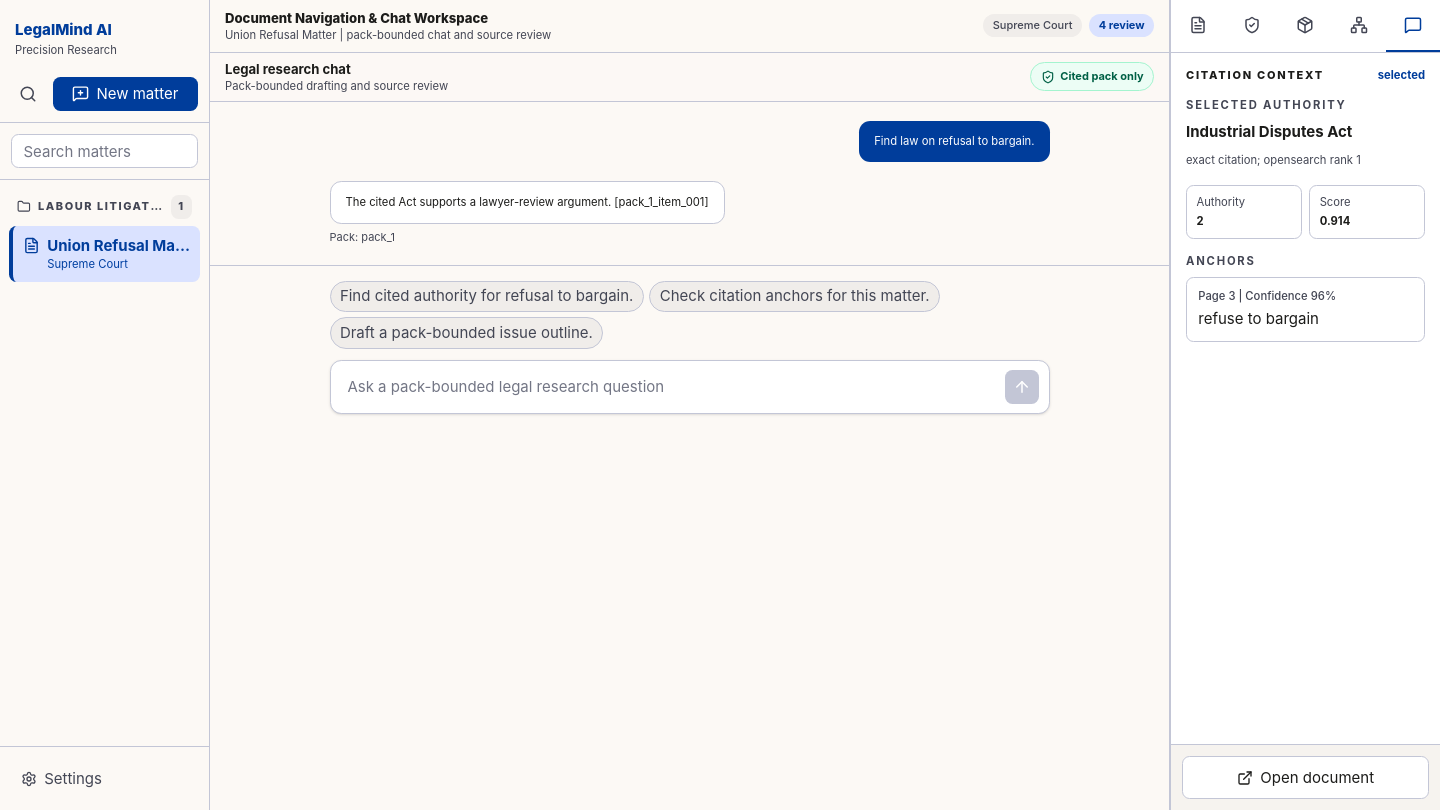
Test: CaseWorkspace › uses the right navigation to switch active workspace views
Click the button named "Pack": coordinates (1306, 26) [1279, 0, 1332, 52]
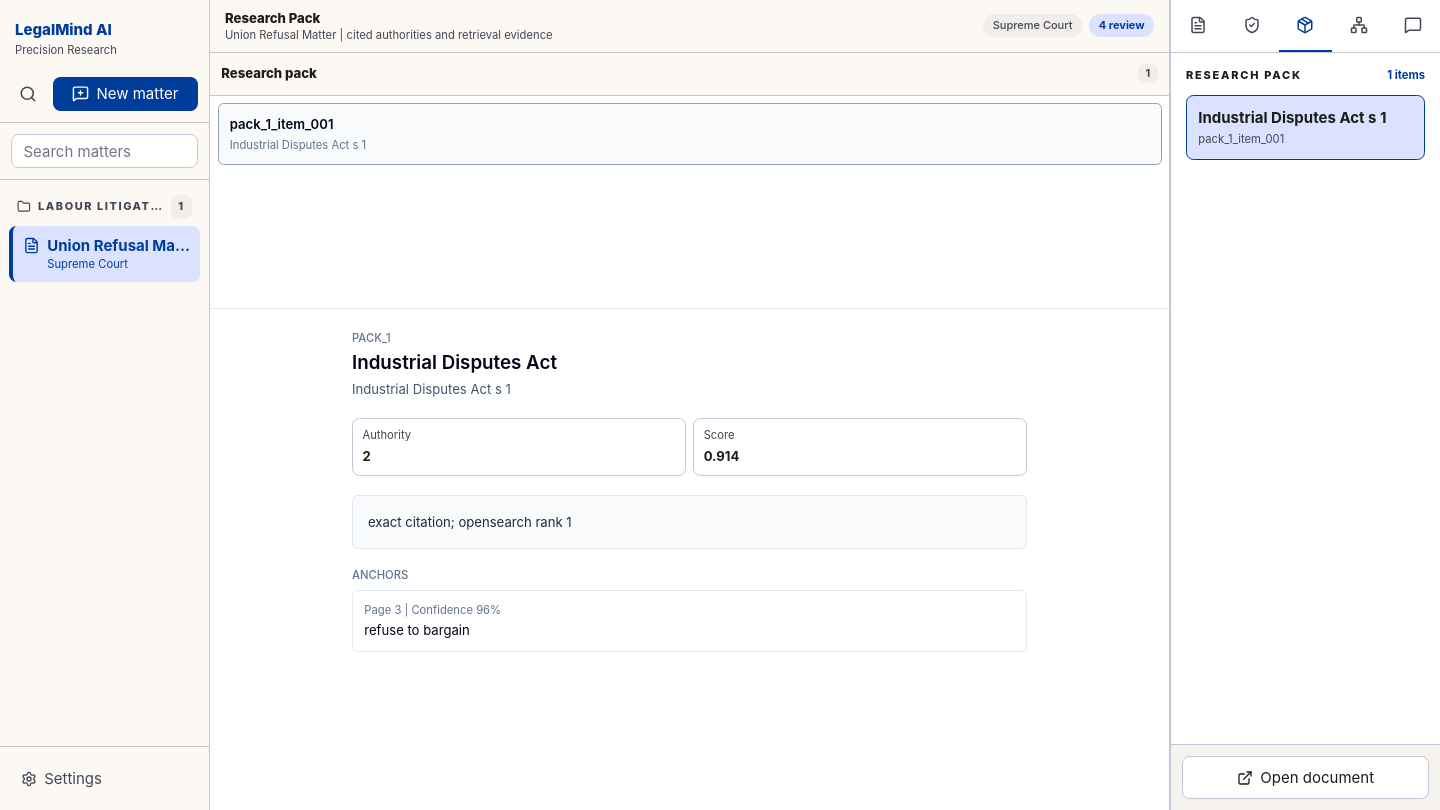
Expected: the element named "Research pack detail" is shown, [210, 309, 1169, 809]
Click the button named "Reviews": coordinates (1252, 26) [1225, 0, 1279, 52]
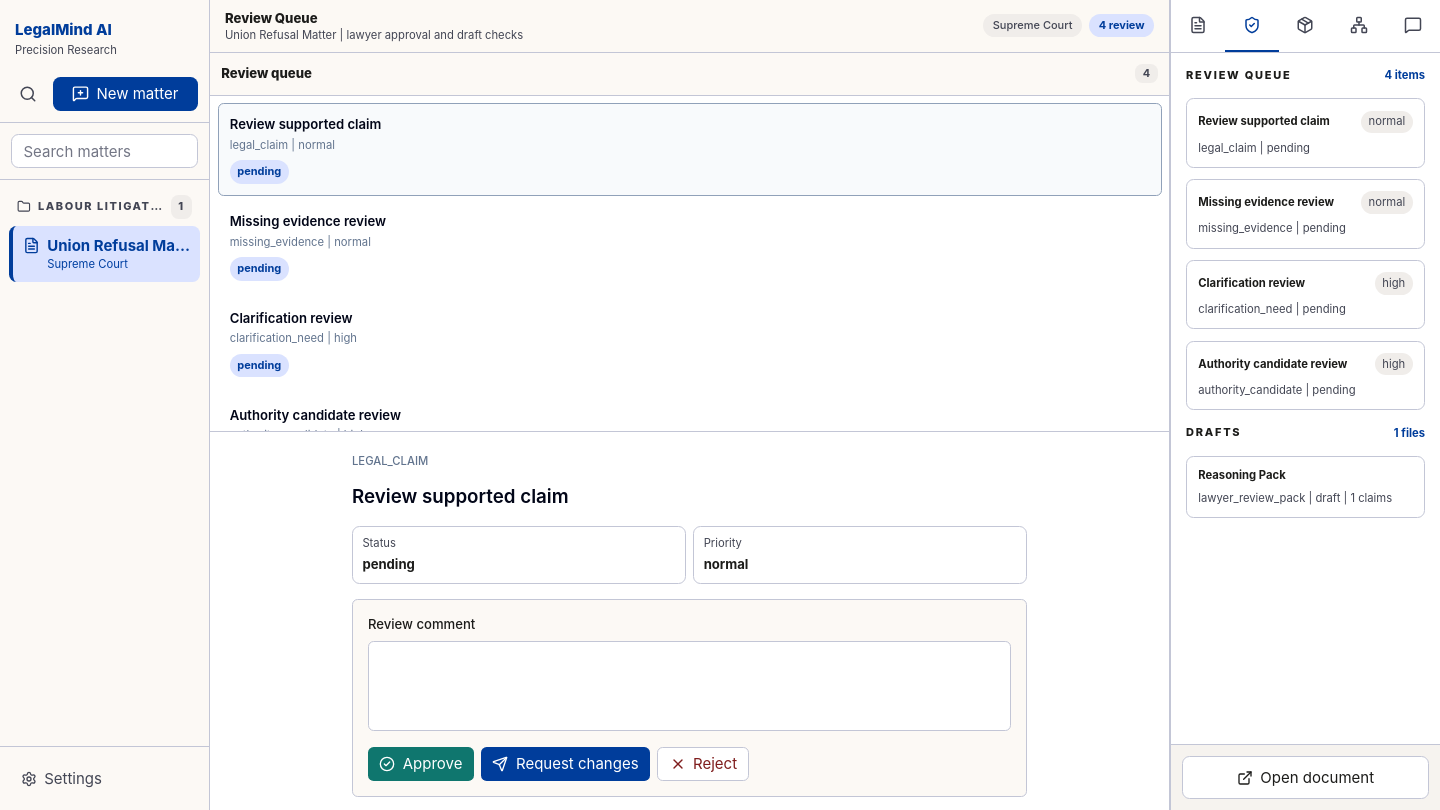
Expected: the element named "Review detail" is shown, [210, 432, 1169, 809]
Click the button named "Docs": coordinates (1198, 26) [1171, 0, 1225, 52]
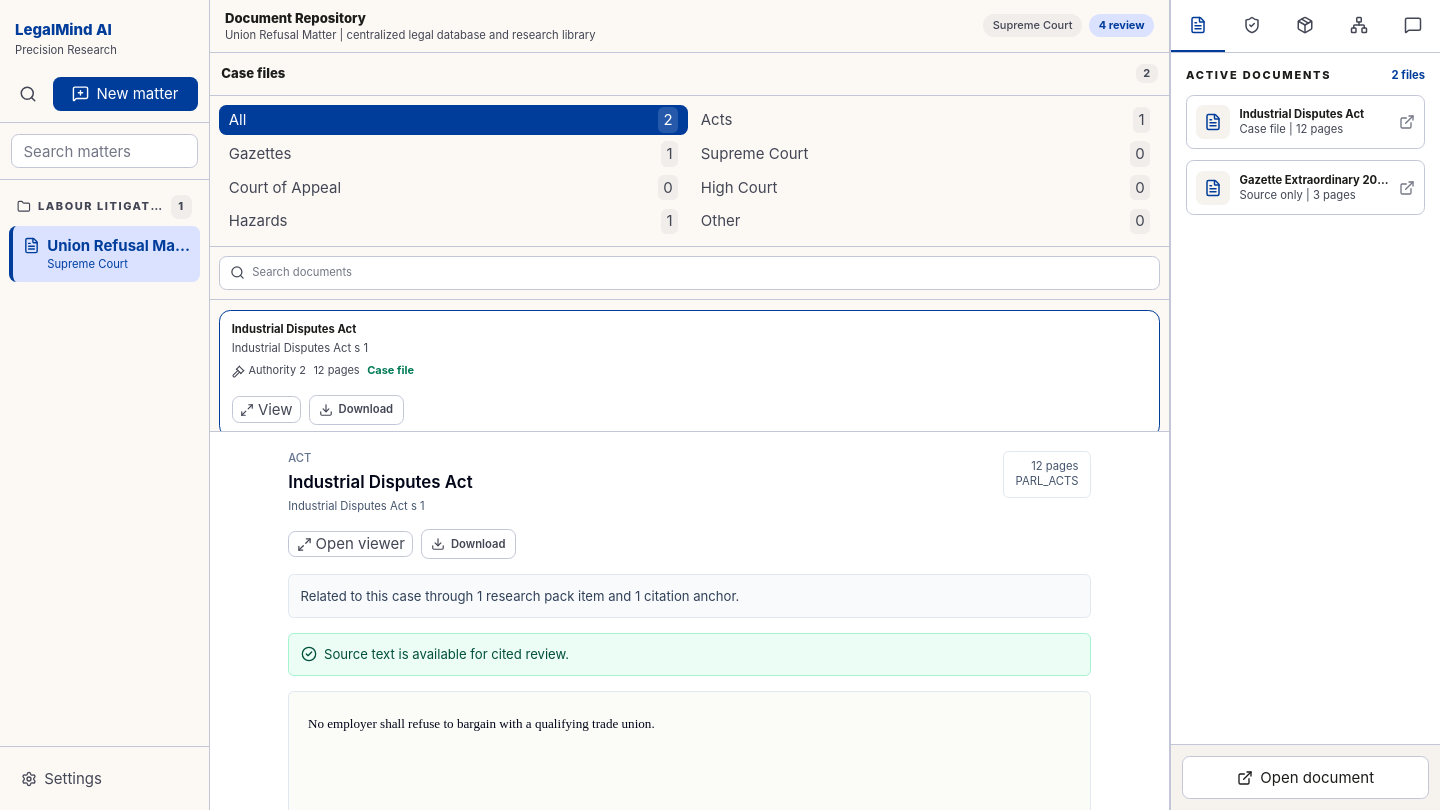
Expected: the heading "Case files" is shown, [221, 64, 285, 83]
Click the button named "Chat": coordinates (1413, 26) [1386, 0, 1439, 52]
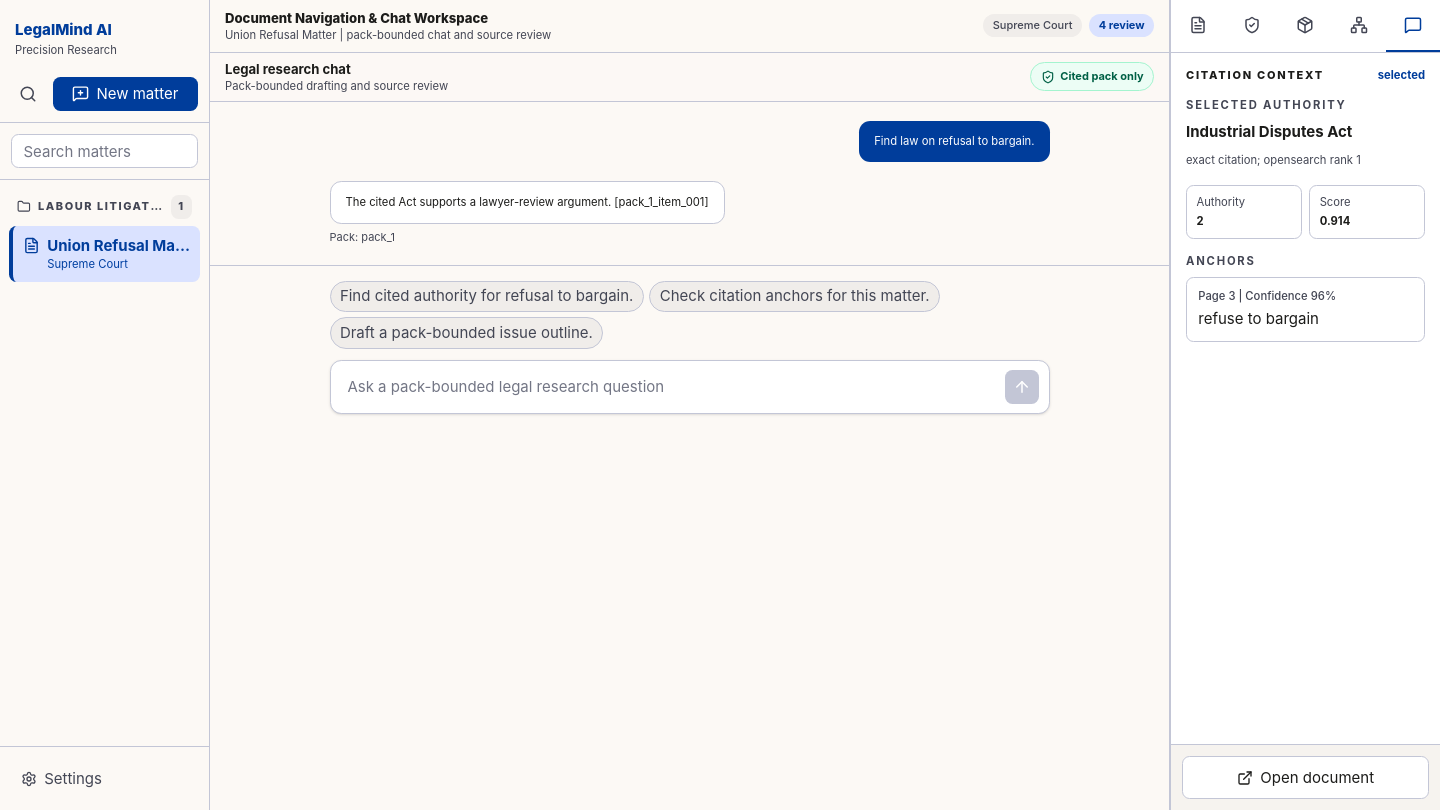
Expected: the element named "legal chat" is shown, [210, 52, 1169, 429]
